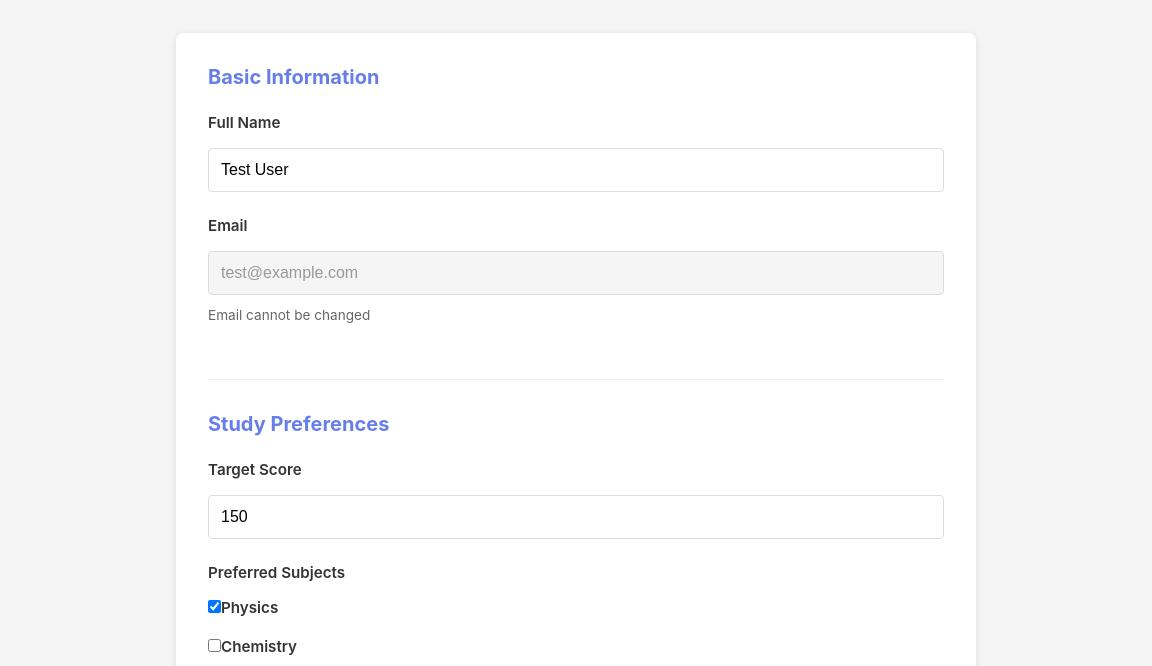
Test: ProfileManager › validates name length
Replace the text in the field showing "Test User" with "A" at (576, 170), box [208,148,944,192]
(page scrolled)
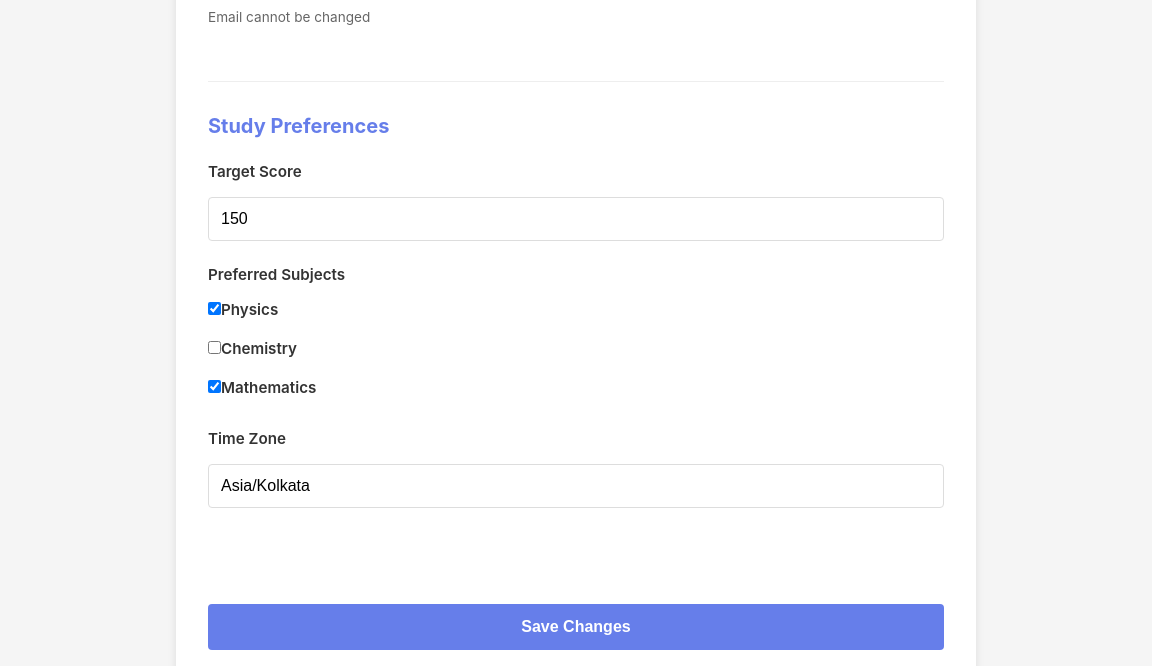
Click the button "Save Changes" at (576, 627), box [208,604,944,650]
(page scrolled)
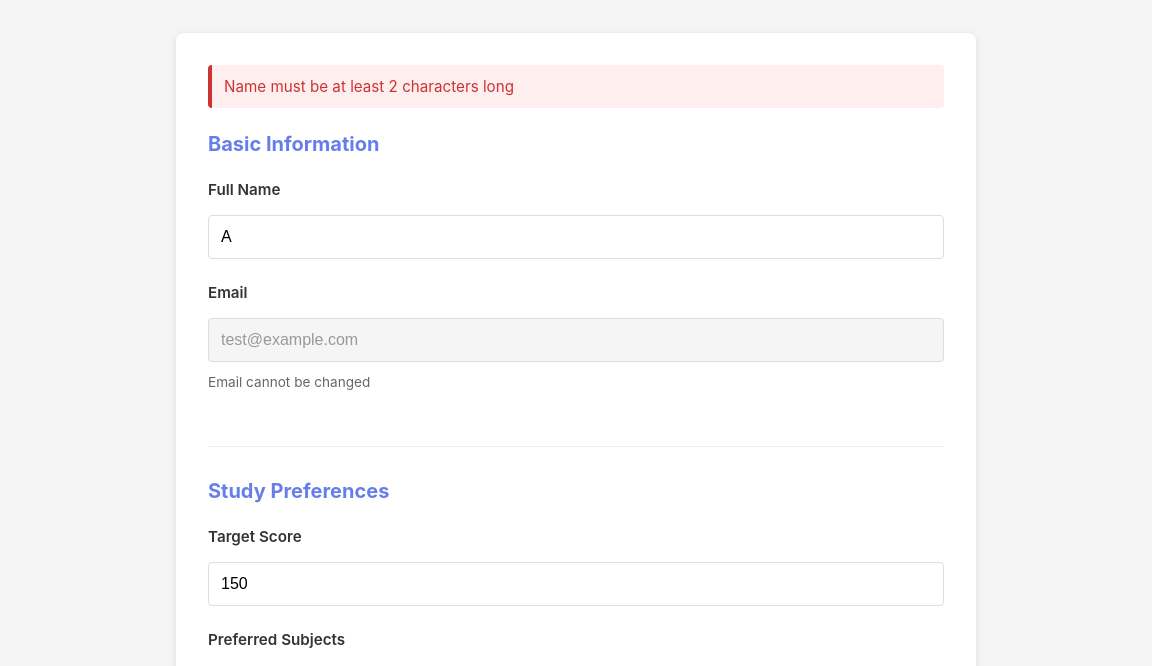
Result: the text "Name must be at least 2 characters long" is shown at [208,65,944,108]
